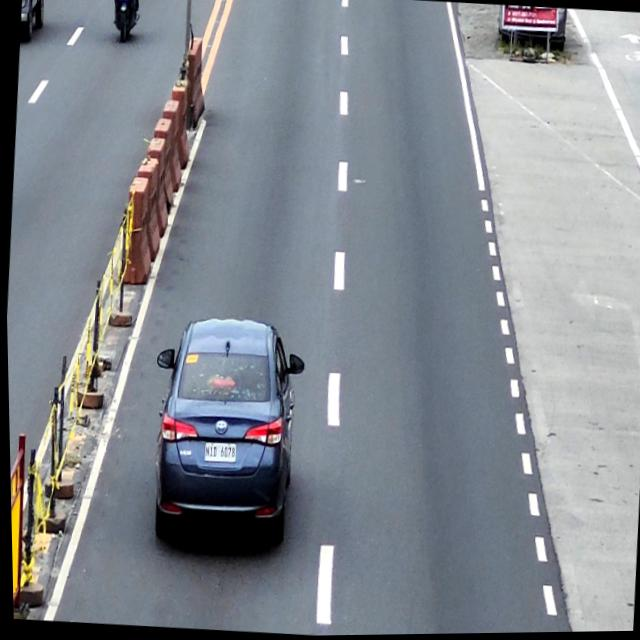Car: (143, 314, 309, 549)
License-Plate: (202, 442, 234, 464)
Motorcycle: (109, 0, 140, 44)
